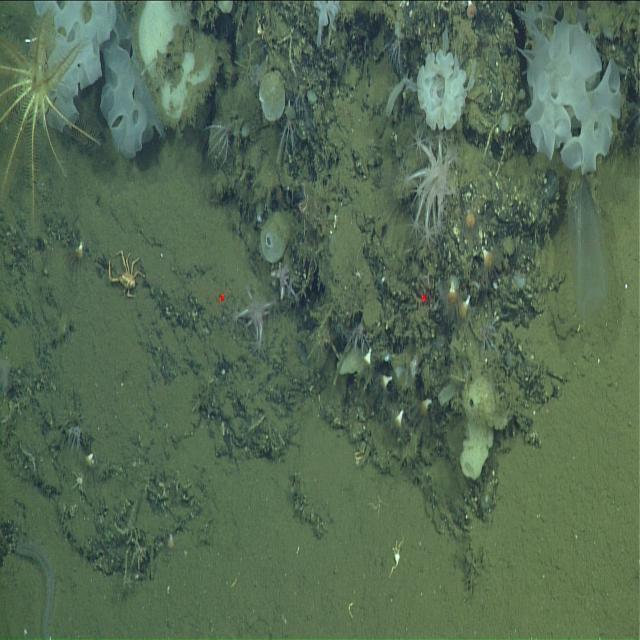Brittle Star: (365, 486, 392, 523)
Not Brittle Star: (0, 12, 103, 243), (518, 15, 624, 178), (43, 1, 116, 110), (100, 40, 165, 161), (400, 128, 462, 243), (417, 41, 473, 134), (12, 534, 59, 638), (233, 281, 280, 358), (105, 246, 146, 304), (257, 209, 292, 268), (204, 116, 237, 170), (258, 68, 286, 125), (476, 311, 504, 358), (268, 262, 297, 300), (63, 418, 87, 456), (349, 318, 369, 355), (69, 468, 89, 497), (460, 291, 474, 316), (480, 244, 495, 266), (392, 403, 405, 428), (464, 0, 479, 20), (446, 272, 456, 302), (380, 371, 394, 390), (420, 393, 432, 415), (83, 448, 96, 468), (364, 345, 374, 367), (75, 240, 85, 260), (466, 210, 476, 229)
